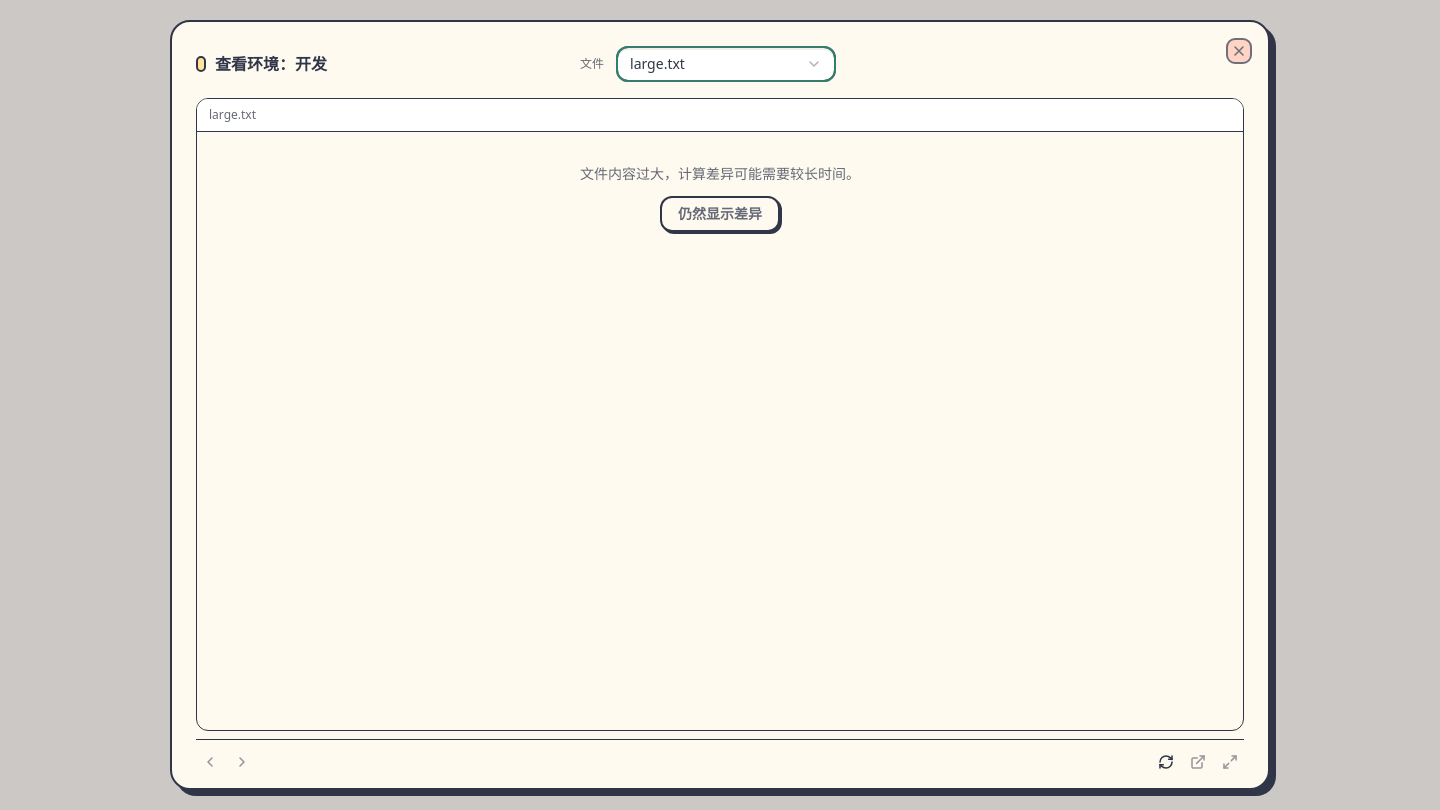
Test case: EnvironmentDiffDialog › waits for confirmation before building a large-file diff
This screenshot has width=1440, height=810.
Expected: the element with test id "environment-diff-large-file-warning" is shown, [580, 164, 860, 232]
Expected: the element with test id "environment-diff-large-file-warning" shows "文件内容过大", [580, 164, 860, 183]
Click the button "仍然显示差异" at (720,214), box [660, 196, 780, 232]
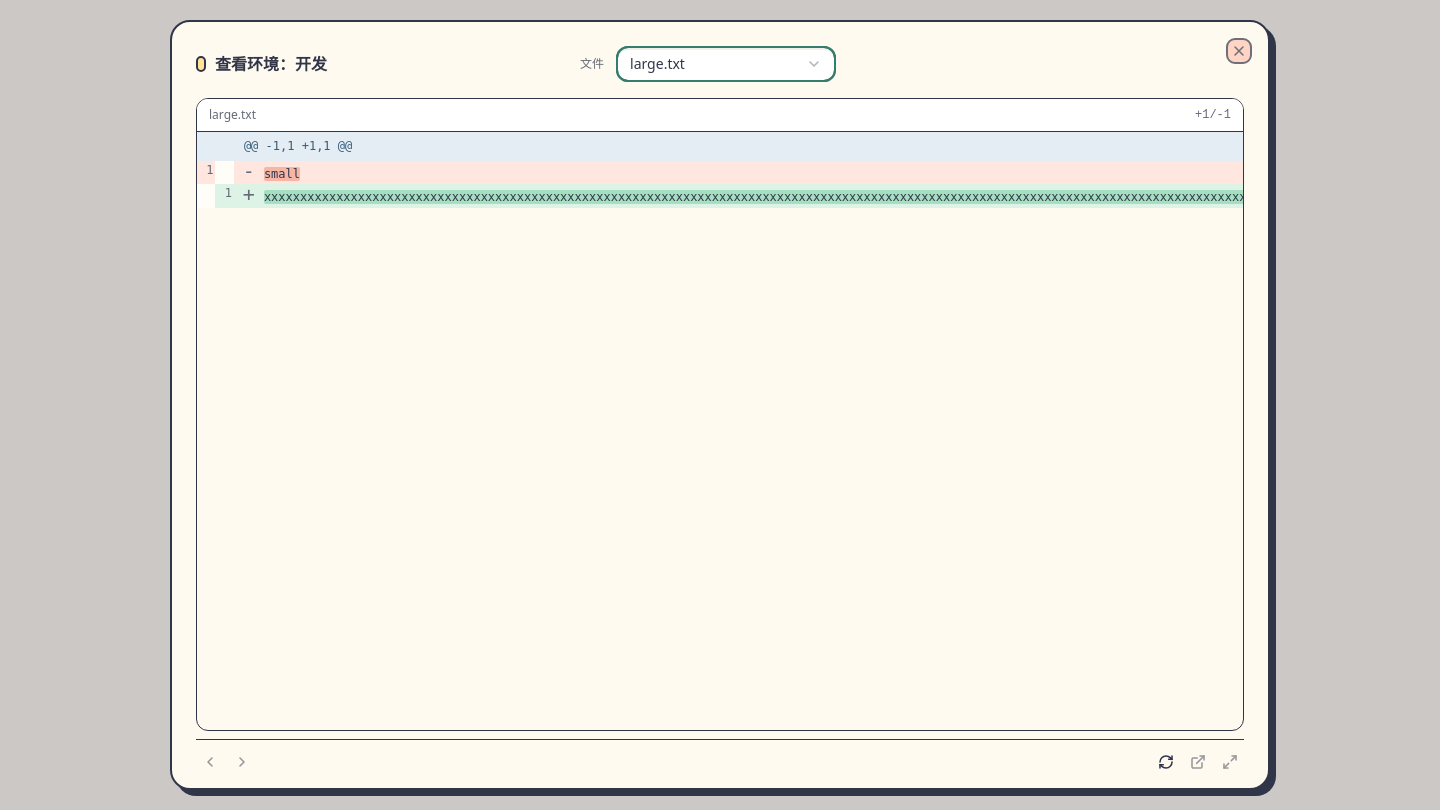
Expected: the text "+1/-1" is shown, [1195, 107, 1231, 123]
